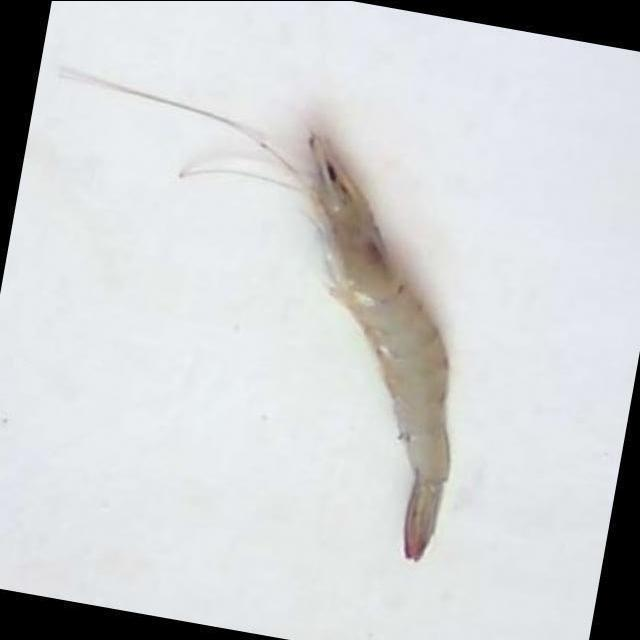shrimp: (310, 135, 450, 561)
